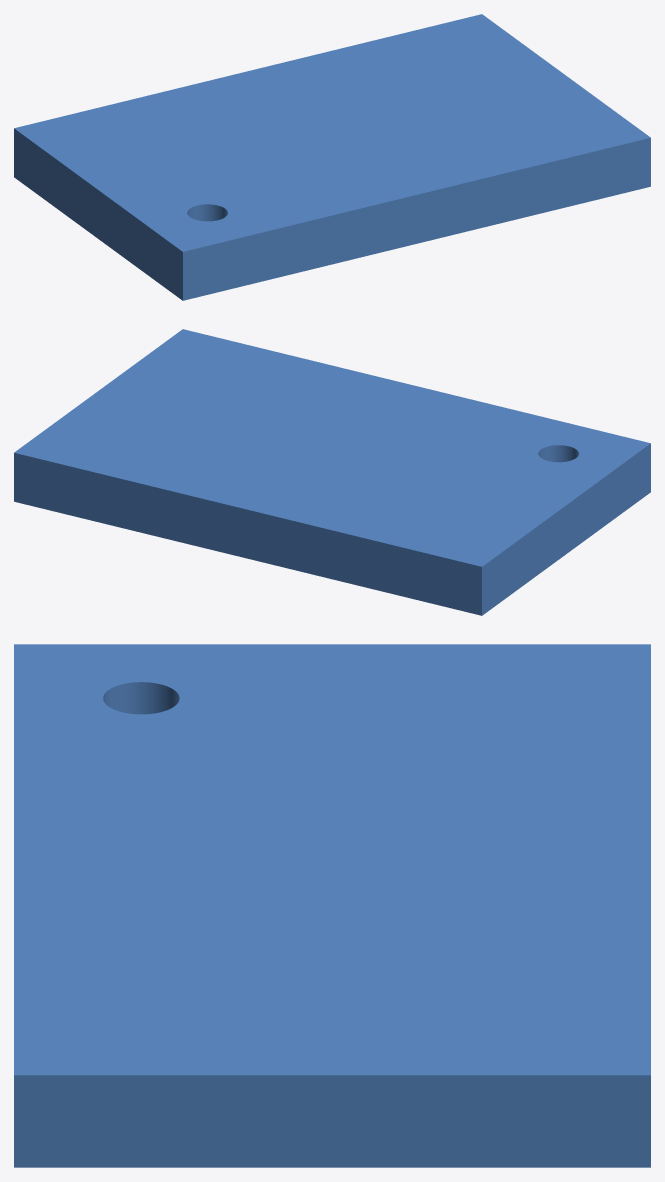
3 views of the same model, one above another, from view 1: azimuth 30°, elevation 25°; view 2: azimuth 150°, elevation 25°; view 3: azimuth 270°, elevation 25° (orthographic). The views are drawn at different scales.
Visible parts, largest first — view 1: Agent-CAD part; view 2: Agent-CAD part; view 3: Agent-CAD part.
Part boxes in pixels (x1=…): Agent-CAD part: x1=14, y1=14, x2=650, y2=300; Agent-CAD part: x1=14, y1=329, x2=650, y2=615; Agent-CAD part: x1=14, y1=644, x2=650, y2=1167.
Bounding box in the file's own units: 0.08 × 0.008 × 0.05.
